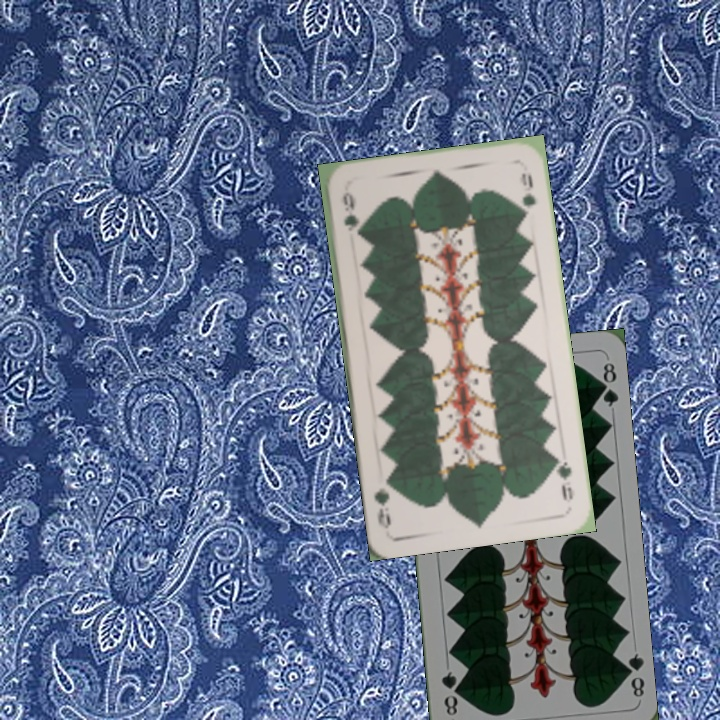G8: (618, 649, 647, 700)
G9: (550, 450, 575, 503), (338, 187, 361, 238)
